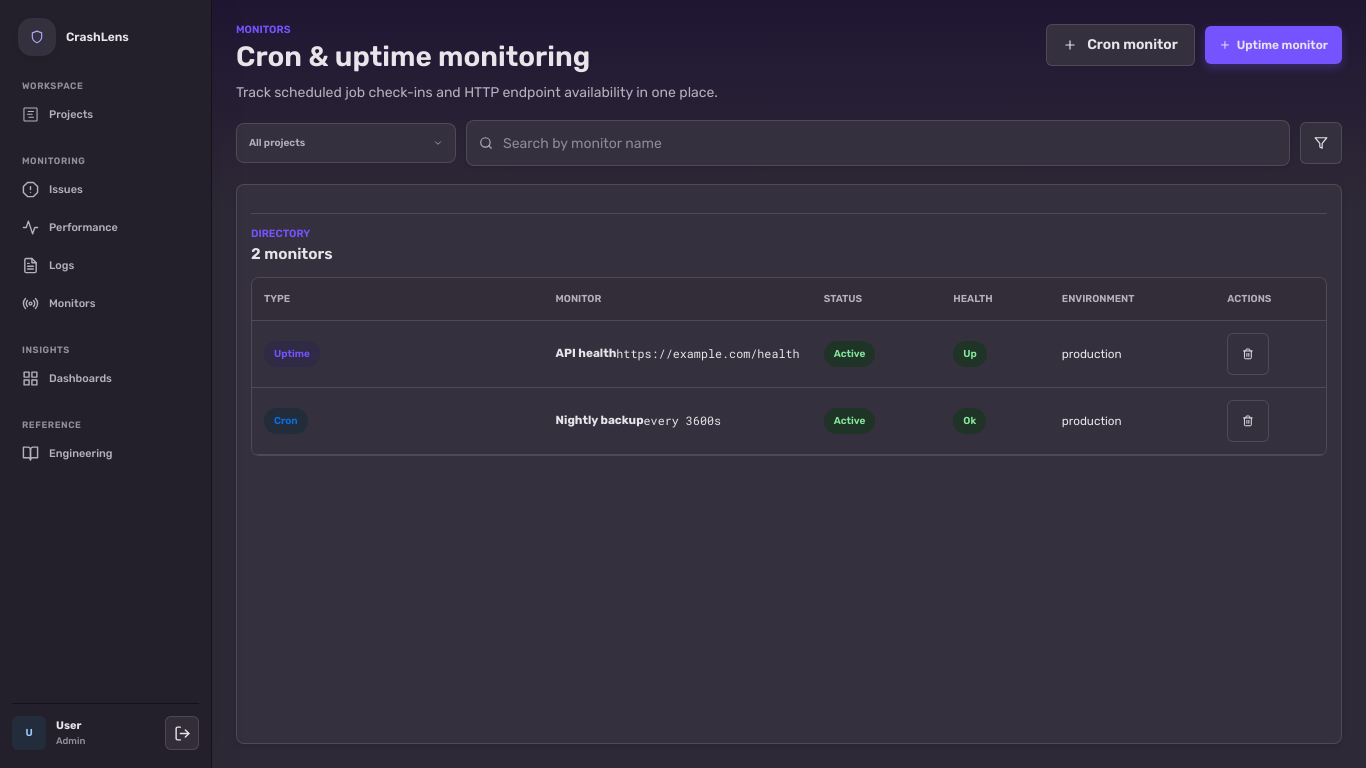
it: MonitorsPage › filters the visible list client-side by monitor name search
This screenshot has width=1366, height=768.
Expected: the text "Nightly backup" is shown, [556,413,644,427]
Expected: the text "API health" is shown, [556,346,616,360]
Type "night" into the field with placeholder "Search by monitor name" at (890, 143), box [503,134,1277,153]
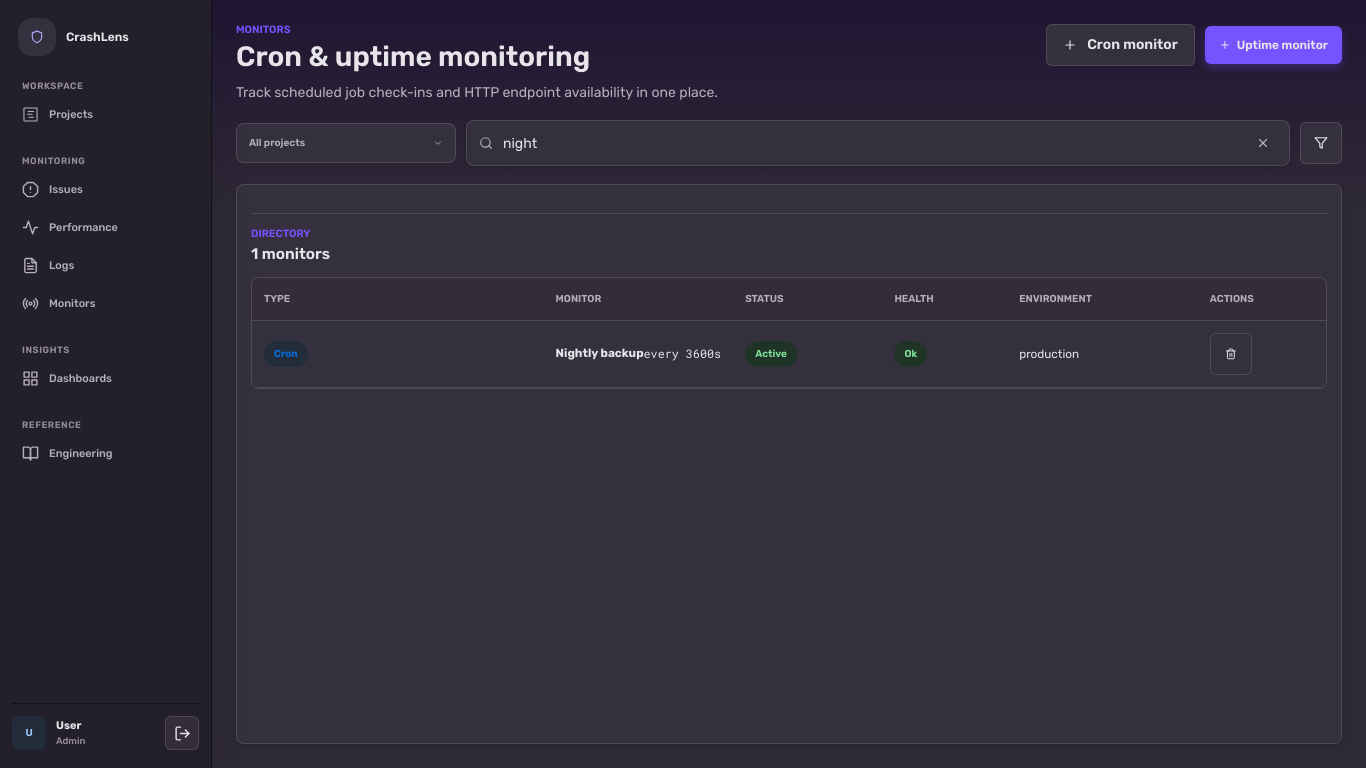
Expected: the text "Nightly backup" is shown, [556,346,644,360]
Expected: the text "API health" is gone
